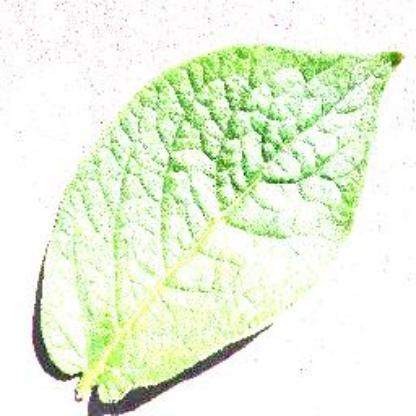Healthy-plant: (31, 40, 404, 410)
